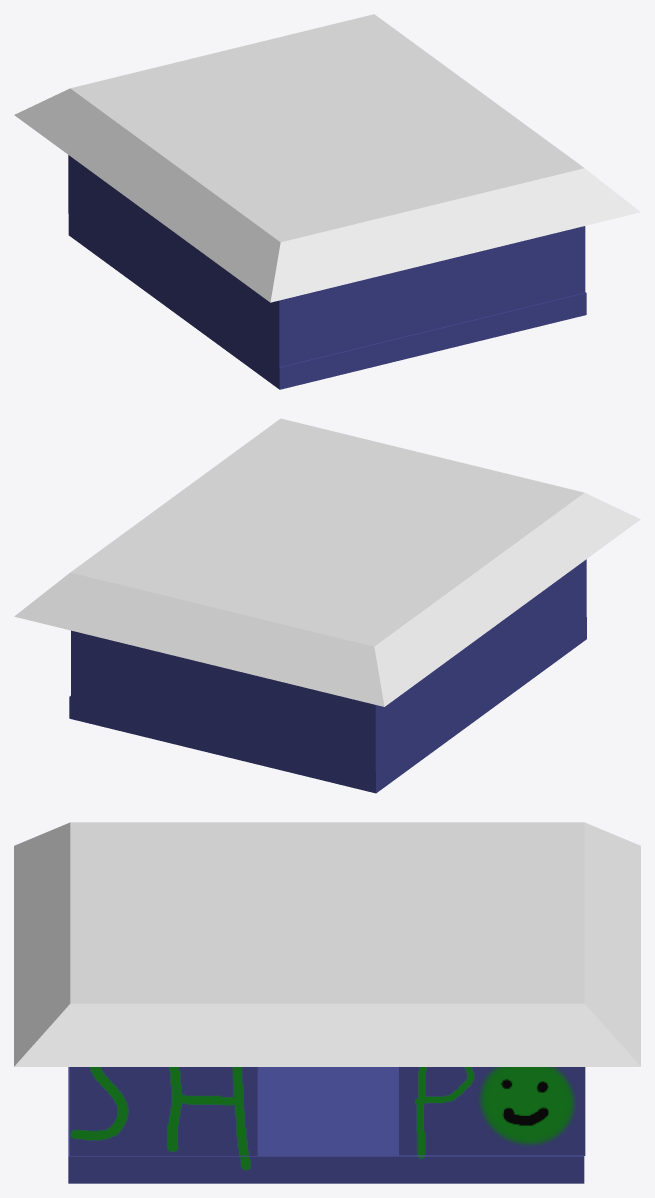
The model's file is shop1.fbx.
3 renders of one model, top to bottom at view 1: azimuth 30°, elevation 25°; view 2: azimuth 150°, elevation 25°; view 3: azimuth 270°, elevation 25°, orthographic. The views are drawn at different scales.
Visible parts, largest first — view 1: Cube.006, Cube; view 2: Cube.006, Cube; view 3: Cube.006, Cube.
Boxes of the visible parts, x1,y1,x2,y2 form: Cube.006: [14, 14, 640, 302]; Cube: [68, 155, 586, 389]; Cube.006: [14, 418, 640, 706]; Cube: [69, 559, 586, 793]; Cube.006: [14, 822, 640, 1066]; Cube: [68, 1067, 585, 1183].
Size of the model in its own units: 1022 by 386 by 1225.
1 material, 1 textured.
